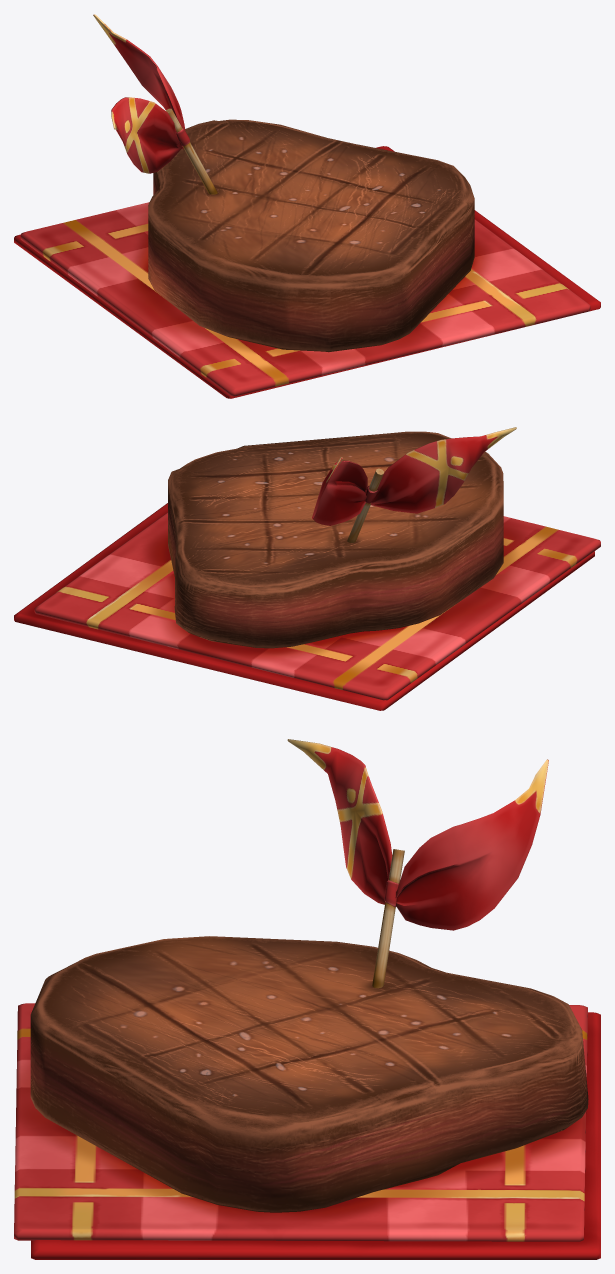
3 views of the same model, one above another, from view 1: azimuth 30°, elevation 25°; view 2: azimuth 150°, elevation 25°; view 3: azimuth 270°, elevation 25° (orthographic). The views are drawn at different scales.
Visible parts, largest first — view 1: SteakLP, Tissu1, RubanG, Tissu2, RubanD, Pic; view 2: SteakLP, Tissu1, Tissu2, RubanG, RubanD, Pic; view 3: SteakLP, Tissu1, Tissu2, RubanD, RubanG, Pic.
Part boxes in pixels (<box>): SteakLP: <box>148,119,474,352</box>; Tissu1: <box>20,148,590,396</box>; RubanG: <box>111,97,182,173</box>; Tissu2: <box>14,146,600,398</box>; RubanD: <box>93,14,185,149</box>; Pic: <box>166,108,217,194</box>; SteakLP: <box>168,431,503,648</box>; Tissu1: <box>34,512,600,700</box>; Tissu2: <box>14,503,594,710</box>; RubanG: <box>370,427,516,513</box>; RubanD: <box>312,457,367,525</box>; Pic: <box>347,468,383,542</box>; SteakLP: <box>30,936,588,1212</box>; Tissu1: <box>14,1003,587,1241</box>; Tissu2: <box>31,1012,600,1259</box>; RubanD: <box>395,759,548,930</box>; RubanG: <box>287,739,392,904</box>; Pic: <box>372,849,404,988</box>.
Size of the model in its own units: 2.09 by 1.16 by 2.06.
Materials: 1 (1 with a texture image).
